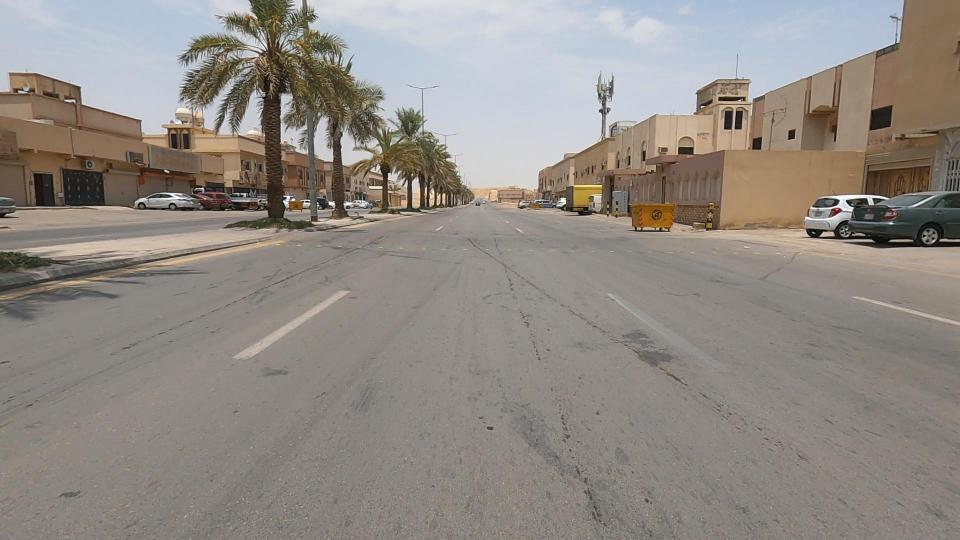BAD_BILLBOARD: (115, 130, 236, 190)
